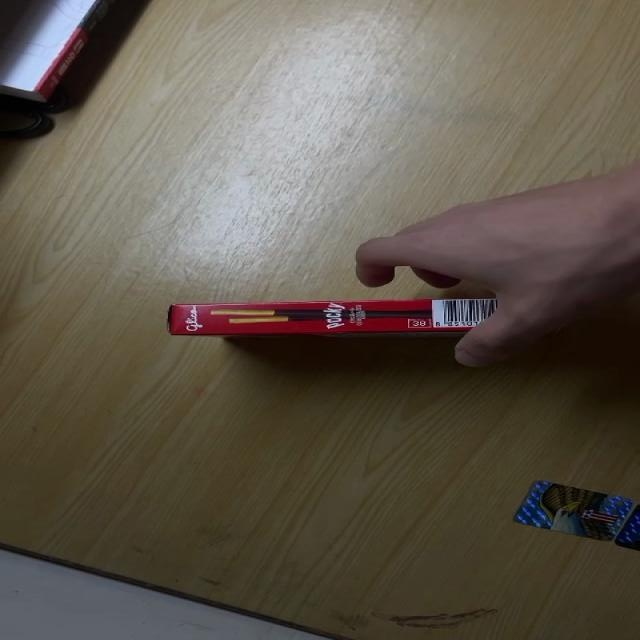Pocky: (162, 298, 582, 336)
